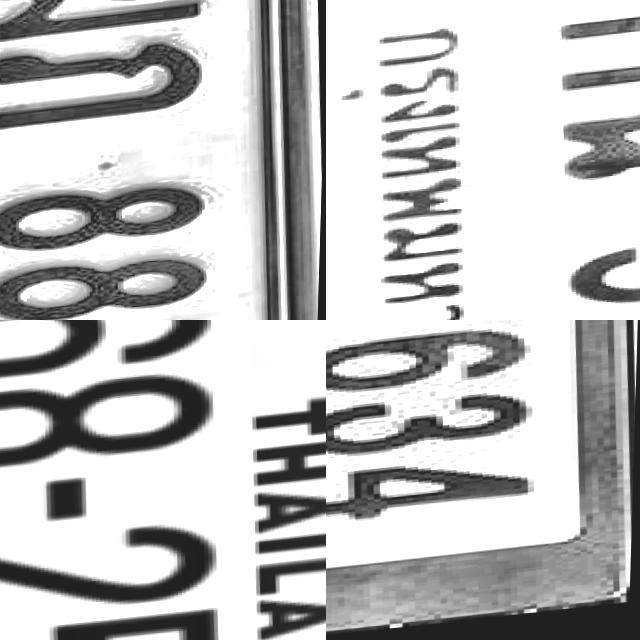license-plate: (0, 0, 326, 320), (0, 320, 326, 640), (326, 0, 640, 320), (326, 320, 640, 640)
